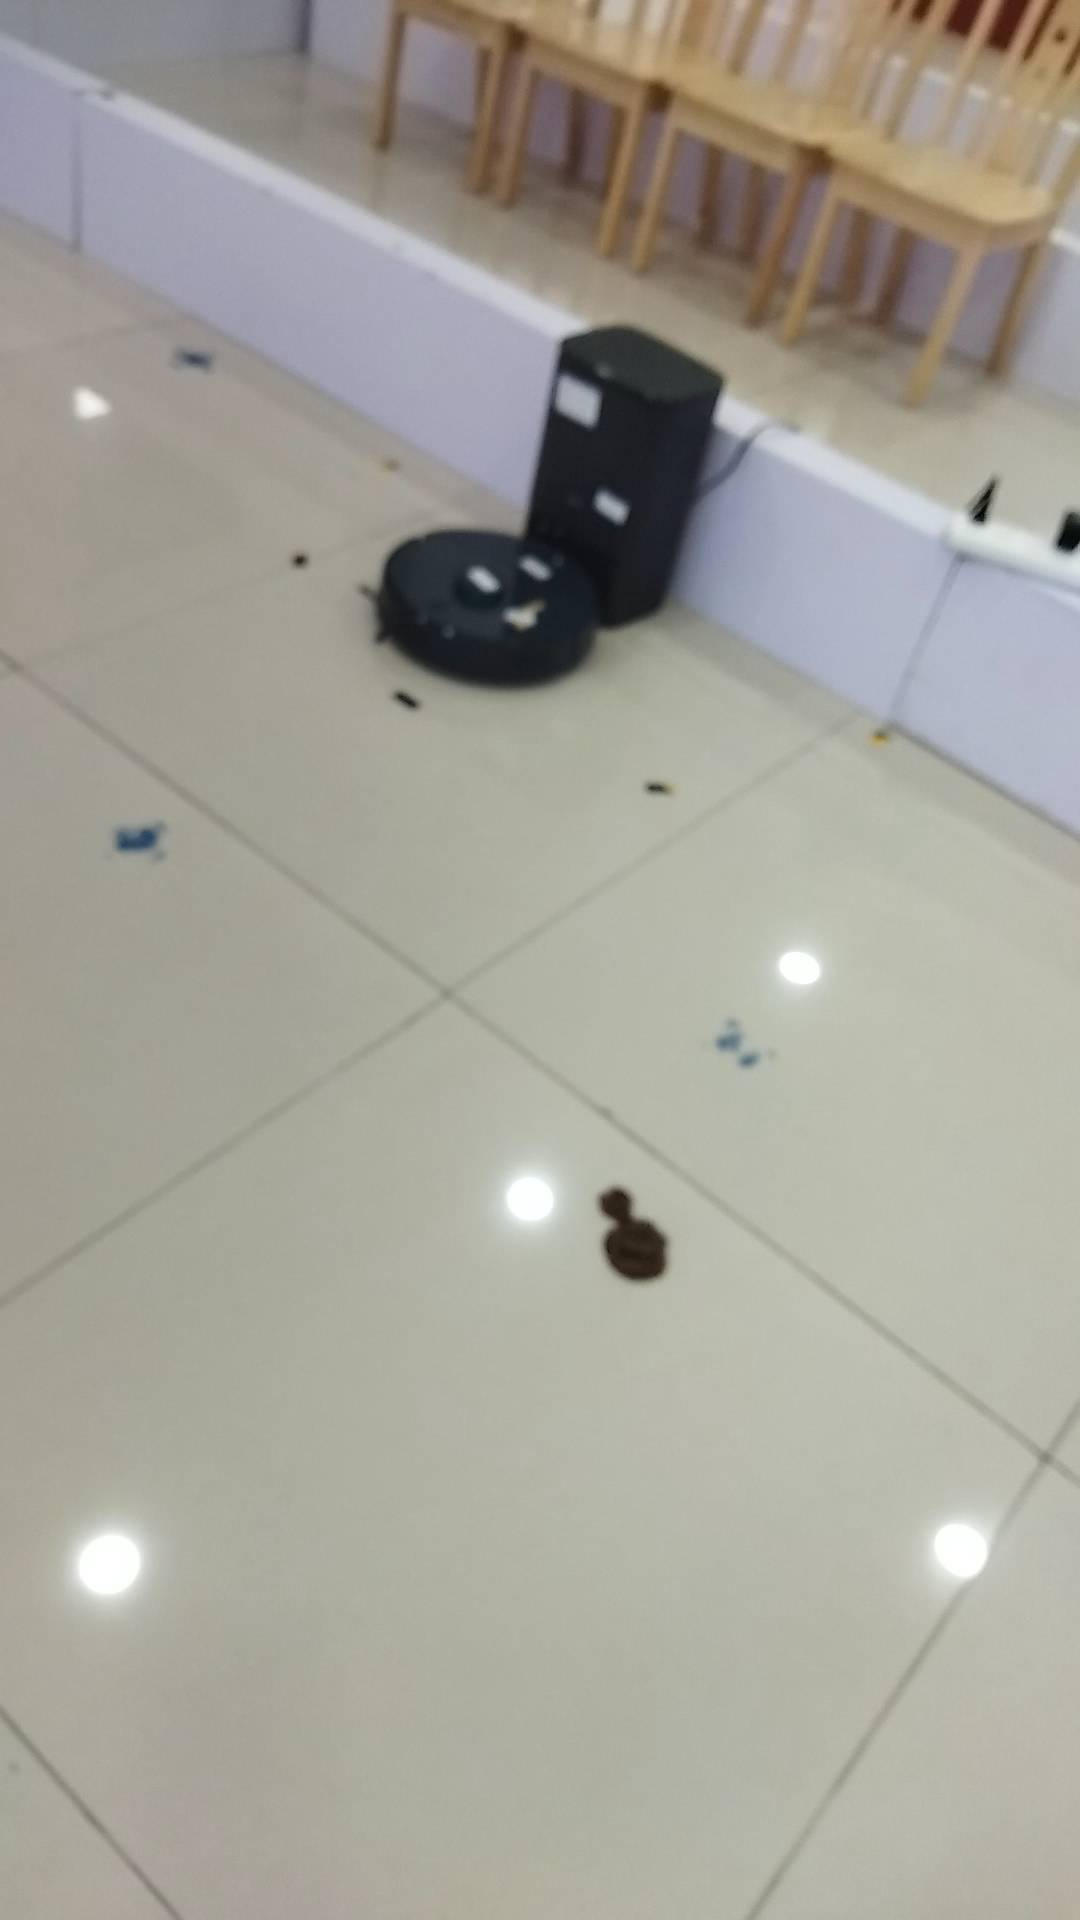dust collecting barrel: (520, 324, 729, 630)
